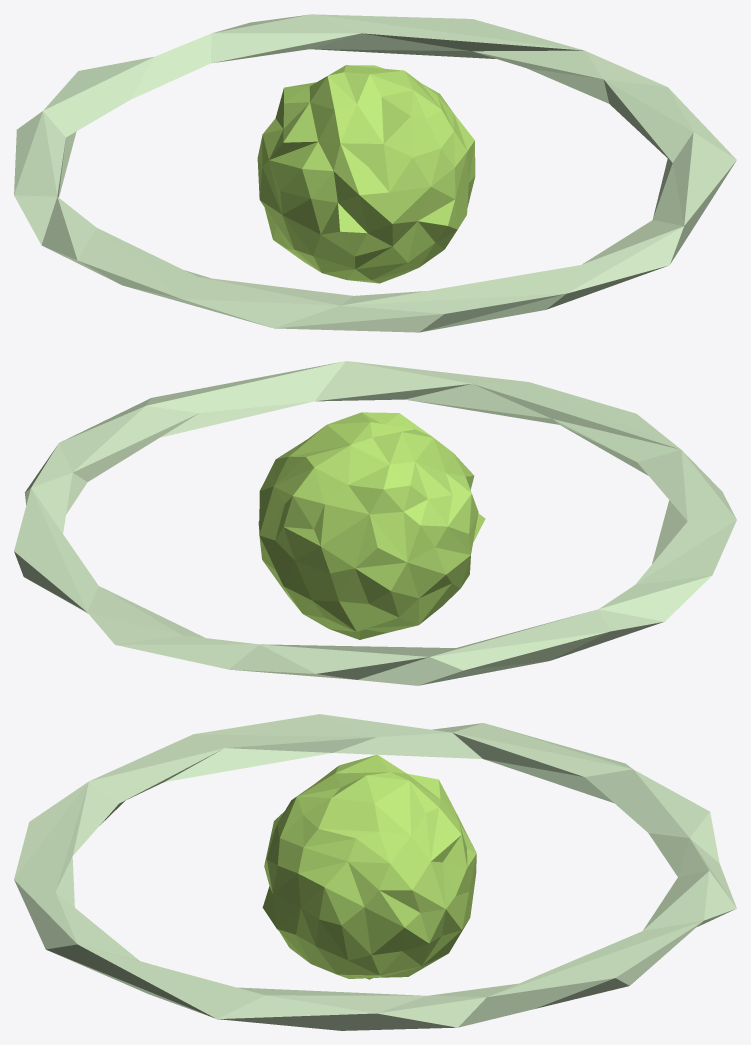
The model's file is ring_planet7.fbx.
The picture shows the model from 3 angles, top to bottom: view 1: azimuth 30°, elevation 25°; view 2: azimuth 150°, elevation 25°; view 3: azimuth 270°, elevation 25°; orthographic projection.
Parts seen in each view (by area): view 1: ring_planet7; view 2: ring_planet7; view 3: ring_planet7.
Part boxes in pixels (bbox=[...]): ring_planet7: bbox=[14, 14, 736, 332]; ring_planet7: bbox=[14, 361, 736, 685]; ring_planet7: bbox=[14, 714, 736, 1030].
Size of the model in its own units: 653 by 210 by 664.
